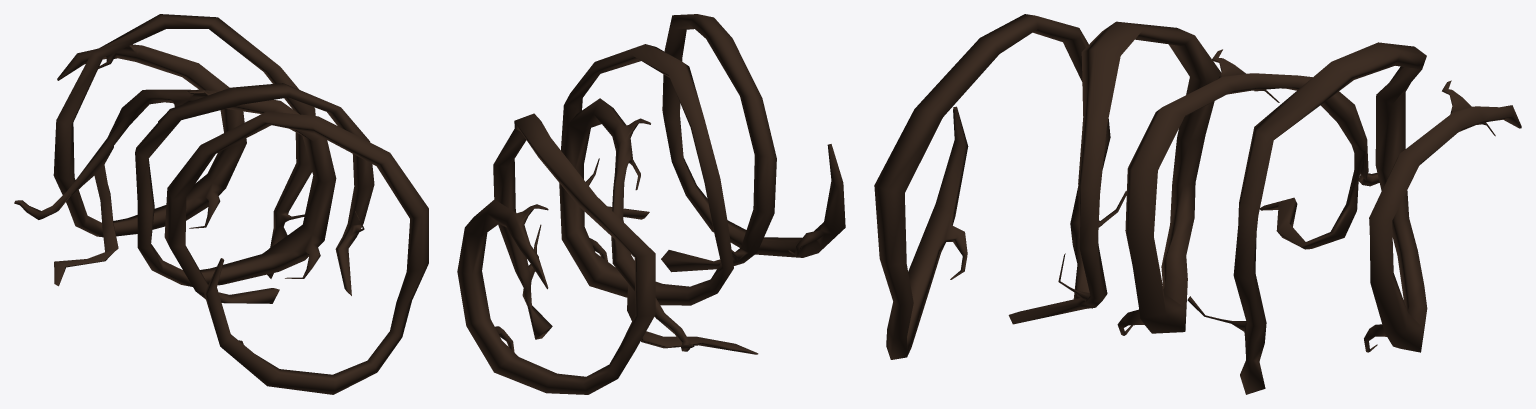
The model's file is BlockChain_Roots_Art.fbx.
The picture shows the model from 3 angles, left to right: view 1: azimuth 30°, elevation 25°; view 2: azimuth 150°, elevation 25°; view 3: azimuth 270°, elevation 25°; orthographic projection. The views are drawn at different scales.
Visible parts, largest first — view 1: BlockChain_Roots_Art; view 2: BlockChain_Roots_Art; view 3: BlockChain_Roots_Art.
Boxes of the visible parts, bbox=[...] form: BlockChain_Roots_Art: bbox=[14, 14, 428, 394]; BlockChain_Roots_Art: bbox=[457, 14, 845, 394]; BlockChain_Roots_Art: bbox=[874, 14, 1521, 394].
Size of the model in its own units: 741 by 694 by 1249.
